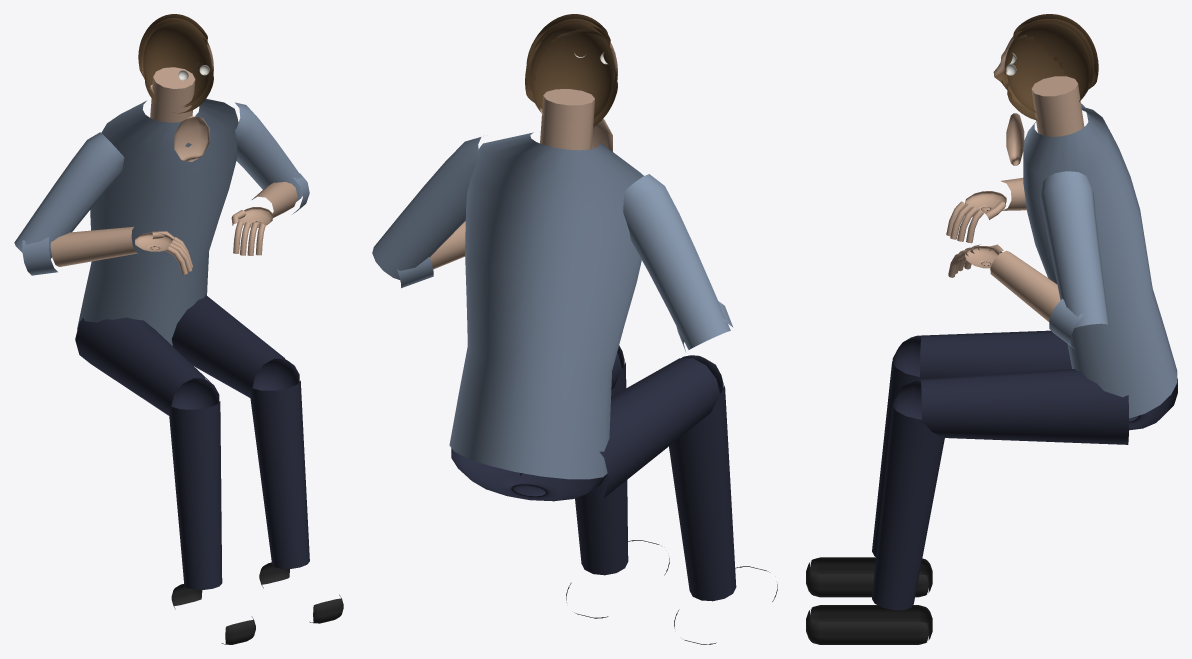
File: planes_seated.glb
3 renders of one model, left to right at view 1: azimuth 30°, elevation 25°; view 2: azimuth 150°, elevation 25°; view 3: azimuth 270°, elevation 25°, orthographic. The views are drawn at different scales.
Parts seen in each view (by area): view 1: body, head; view 2: body, head; view 3: body, head.
Part boxes in pixels (x1,y1,x2,y2): body: [14, 67, 343, 644]; head: [138, 14, 213, 113]; body: [372, 89, 777, 644]; head: [525, 14, 617, 127]; body: [806, 76, 1177, 644]; head: [993, 14, 1098, 120].
Size of the model in its own units: 0.7809 by 1.41 by 0.7922.
